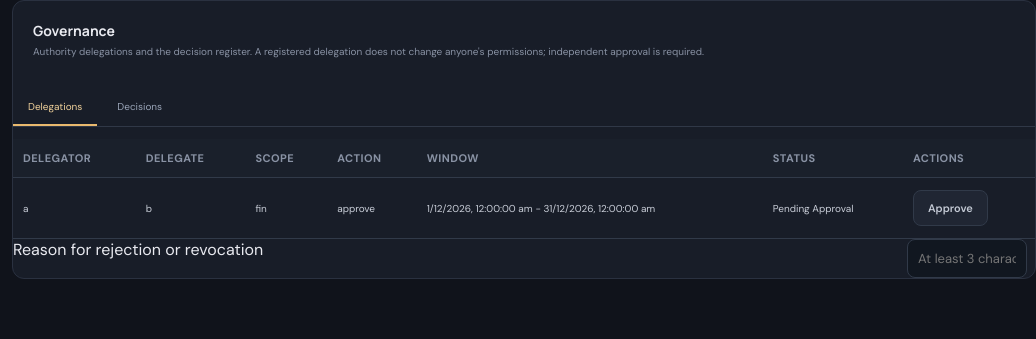
it: GovernanceWorkspace › surfaces maker-checker refusals
Click the button with aria-label "Approve d1".
click(950, 208)  # box [913, 190, 988, 226]
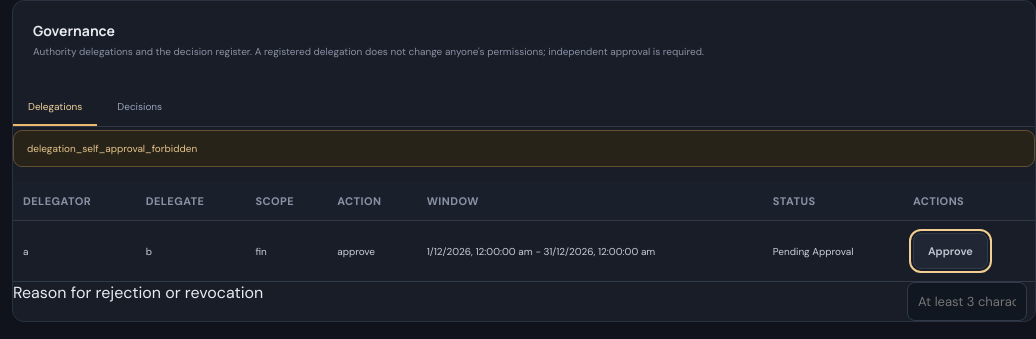
Now the message reads "delegation_self_approval_forbidden", box [27, 142, 197, 155]
